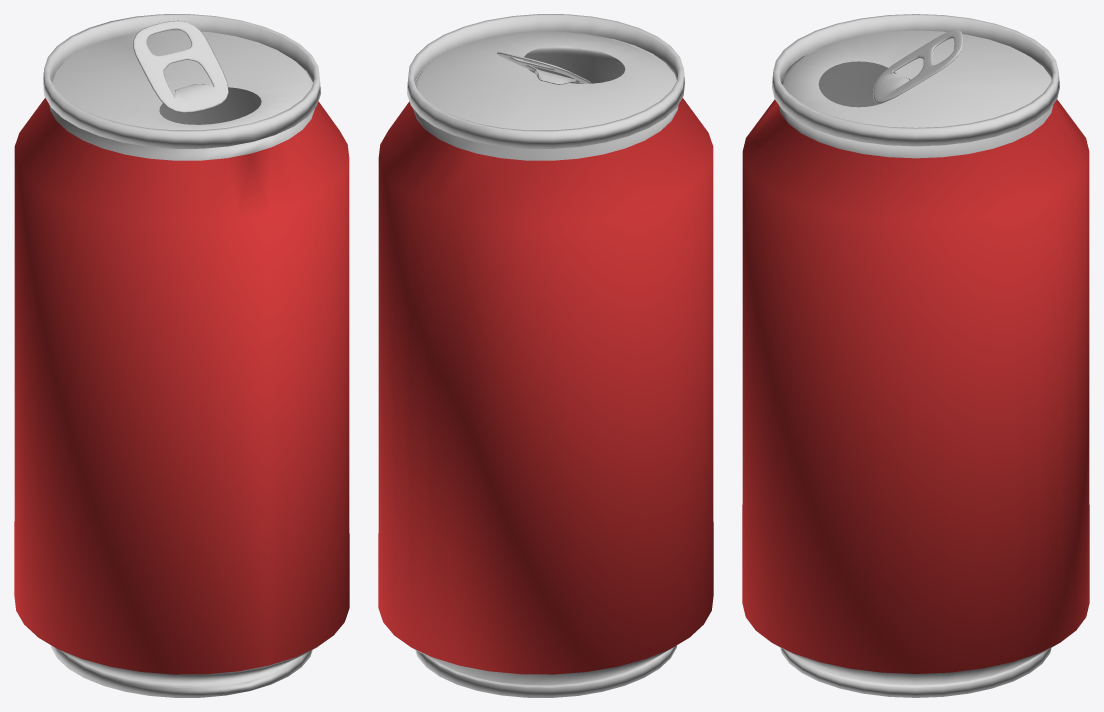
Rendered from lata.fbx.
3 views of the same model, side by side, from view 1: azimuth 30°, elevation 25°; view 2: azimuth 150°, elevation 25°; view 3: azimuth 270°, elevation 25° (orthographic).
Parts seen in each view (by area): view 1: lata; view 2: lata; view 3: lata.
Part boxes in pixels (x1=…): lata: x1=14, y1=14, x2=349, y2=697; lata: x1=378, y1=14, x2=713, y2=697; lata: x1=742, y1=14, x2=1089, y2=697.
Bounding box in the file's own units: 28.83 × 57.53 × 30.
